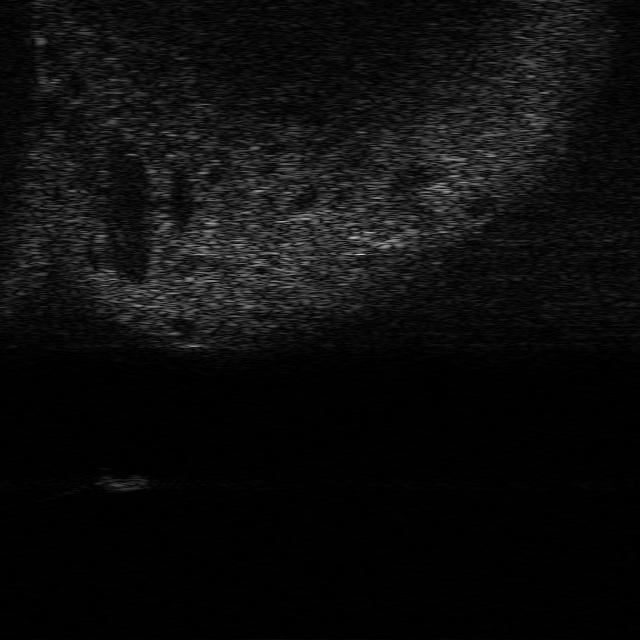cube: (95, 464, 146, 493)
